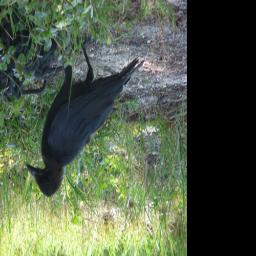Crow: (26, 35, 145, 198)
